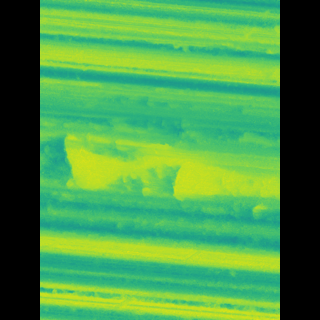Loch: (85, 117, 240, 202)
